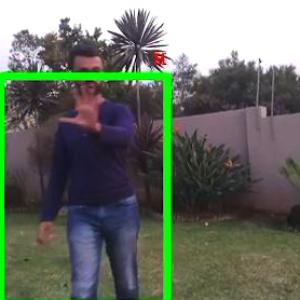follow_hand: (56, 83, 110, 134)
